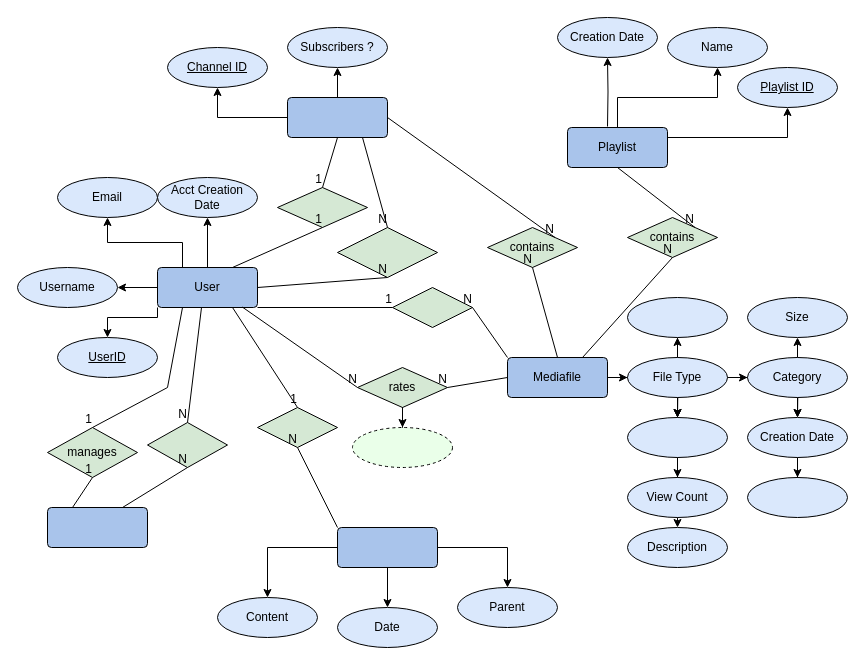
Some shapes in this 865 by 665 pixel diagram are drawn without their labels. The centre of each missing label's shape, as x and y in pixels:
"Channel" goes at pixel 337 117.
"Comment" goes at pixel 387 547.
"Contact List" goes at pixel 97 527.
"lists" goes at pixel 187 445.
"Mediafile ID" goes at pixel 677 317.
"owns" goes at pixel 322 207.
"rating" goes at pixel 402 447.
"Sharing" goes at pixel 677 437.
"subscribes to" goes at pixel 387 252.
"Title" goes at pixel 797 497.
"uploads" goes at pixel 432 307.
"writes" goes at pixel 297 427.
